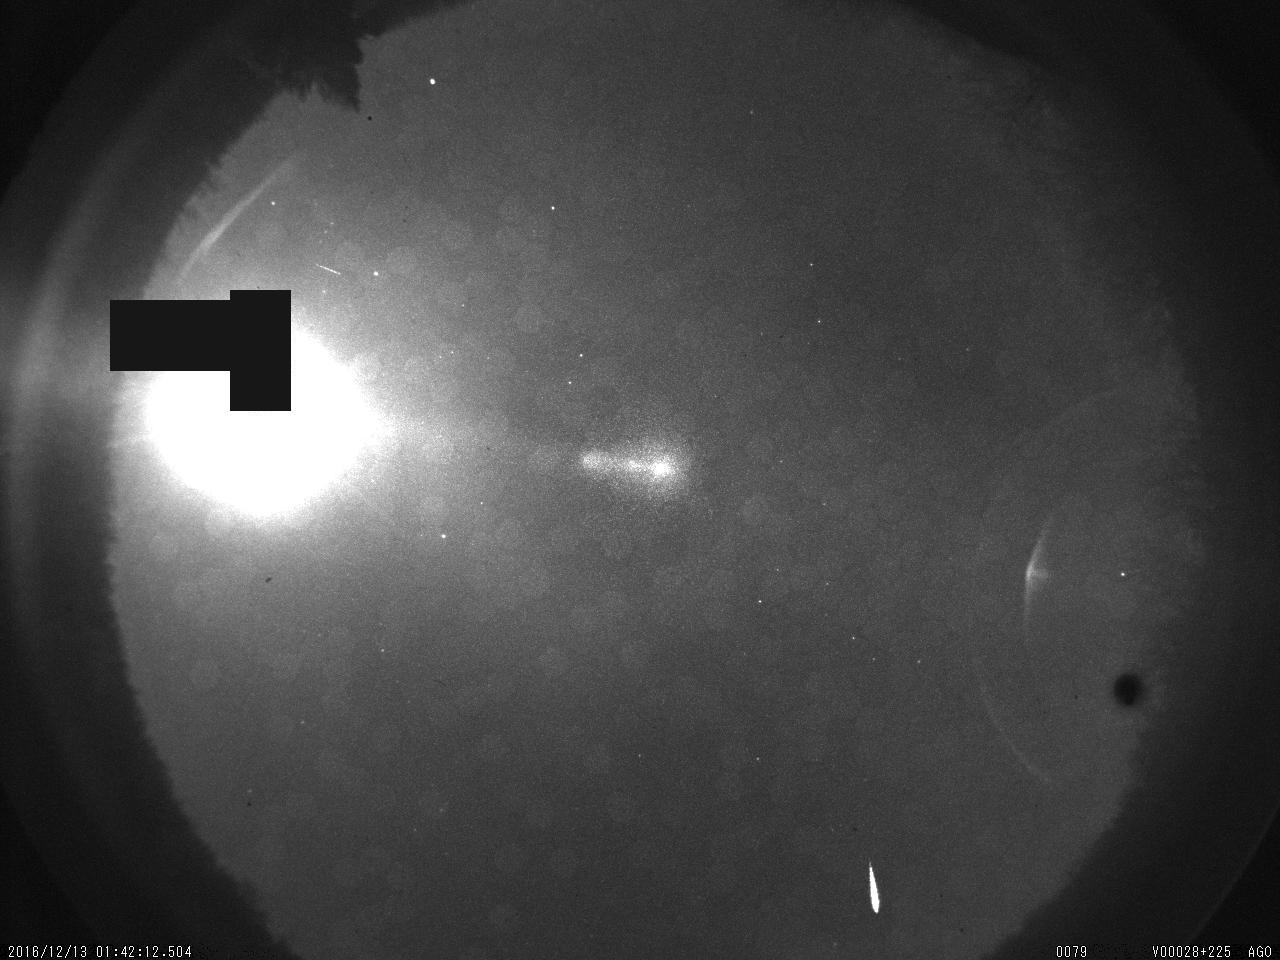meteor: (853, 858, 899, 922)
